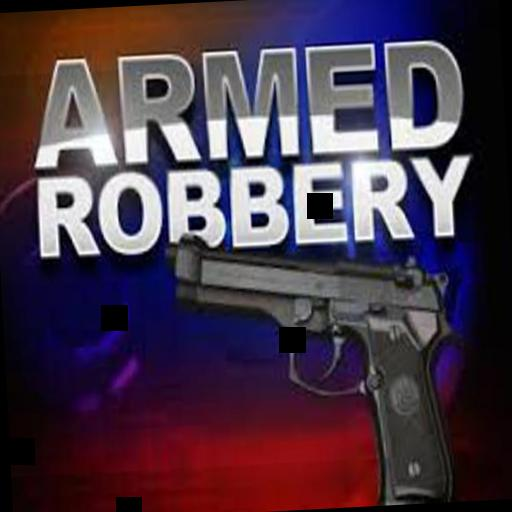Handgun: (161, 207, 468, 512)
